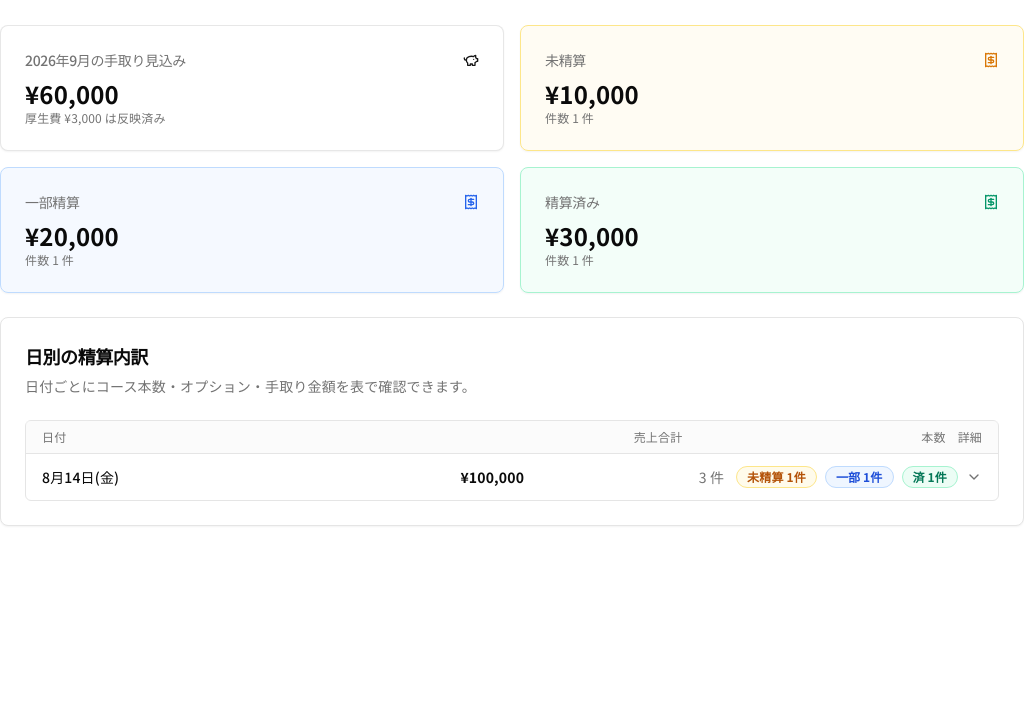
SettlementStatusTab › uses staffRevenue as the final cast take-home without subtracting welfare twice
Expected: the text "¥60,000" is shown, [25, 76, 119, 111]
Click the button "8月14日(金) ¥100,000 3 件 未精算 1件 一部 1件 済 1件" at (512,477), box [26, 454, 998, 500]
(page scrolled)
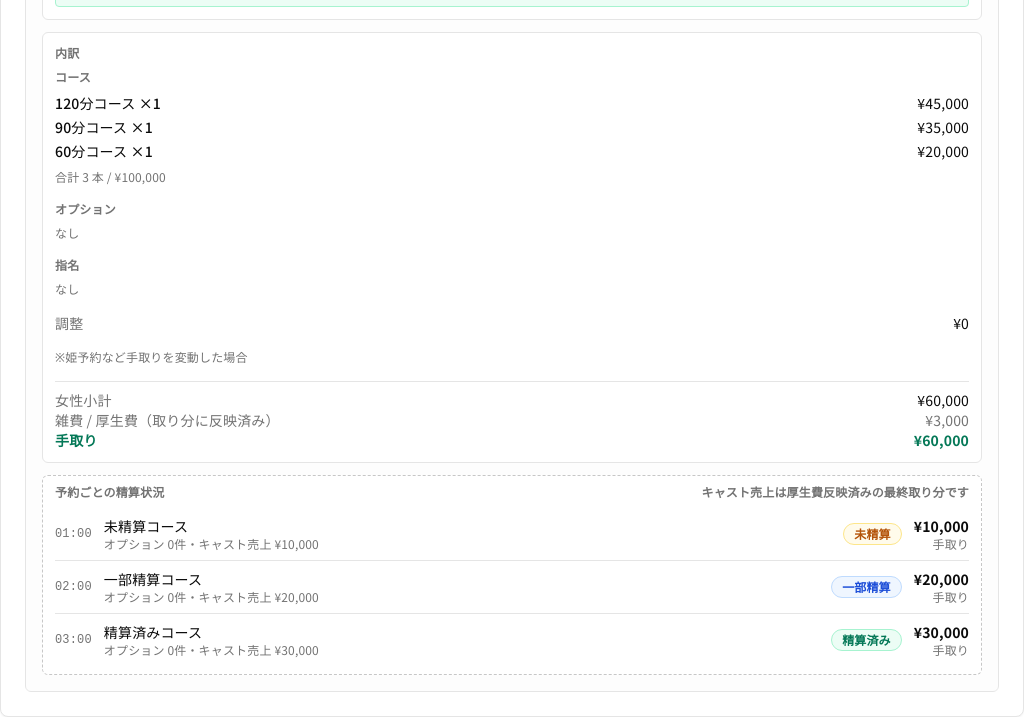
Now the text "未精算コース" is shown, box [104, 516, 188, 536]
Now the text "¥10,000" is shown, box [914, 516, 969, 536]
